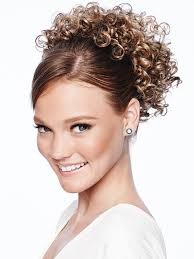person: (31, 47, 143, 195)
